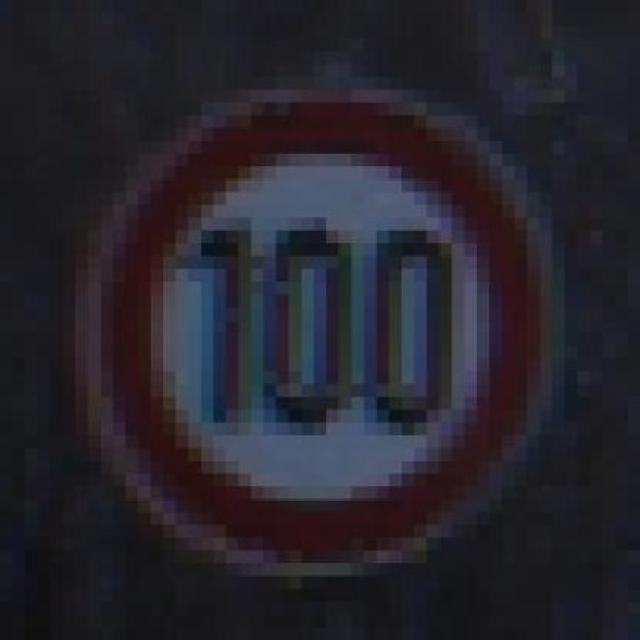forb_speed_over_100: (96, 89, 545, 560)
